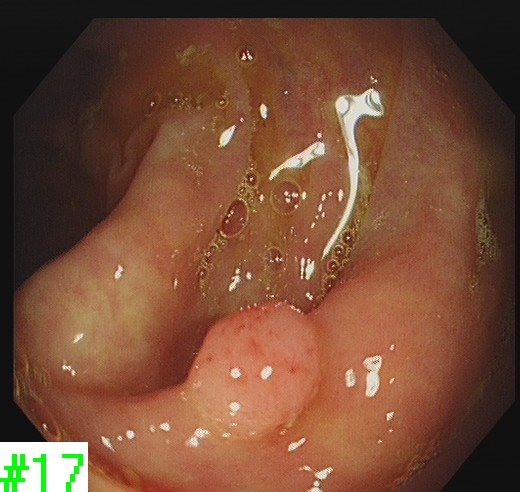adenoma: (180, 299, 325, 444)
